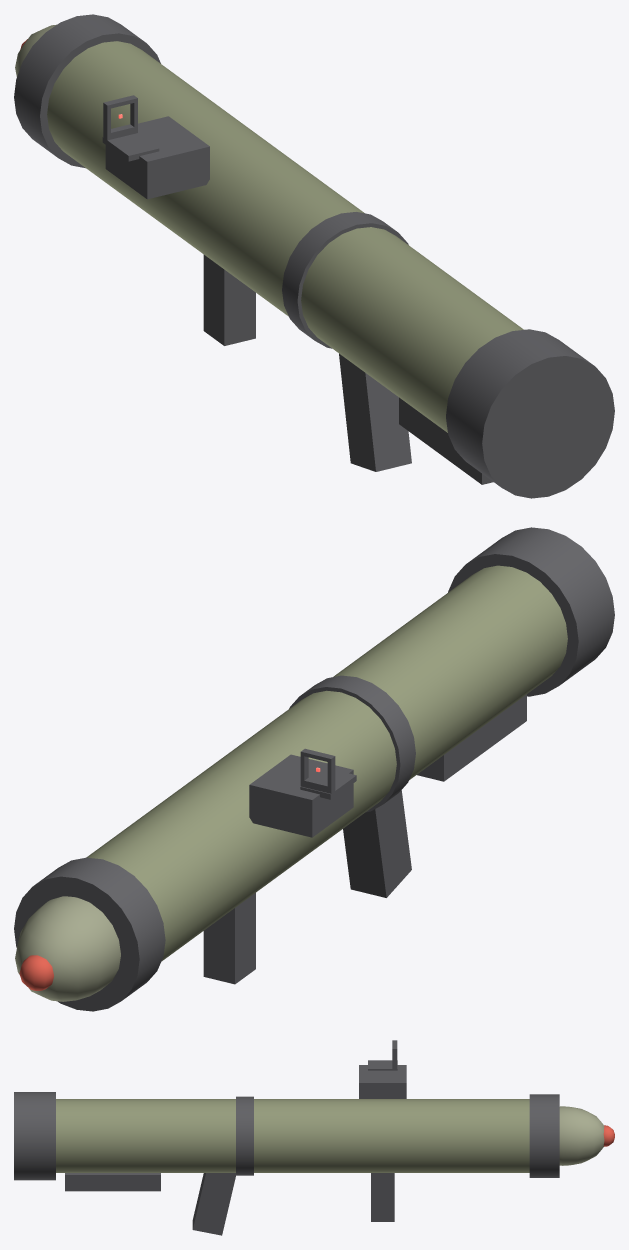
Rendered from launcher.glb.
The picture shows the model from 3 angles, top to bottom: view 1: azimuth 30°, elevation 25°; view 2: azimuth 150°, elevation 25°; view 3: azimuth 270°, elevation 25°; orthographic projection. The views are drawn at different scales.
Visible parts, largest first — view 1: Tube, Rear Ring, Front Ring, Grip, Sight Mount, Front Grip, Mid Band, Shoulder Pad, Sight Base; view 2: Tube, Rear Ring, Front Ring, Warhead, Sight Mount, Grip, Front Grip, Mid Band, Shoulder Pad, Warhead Tip, Sight Base; view 3: Tube, Rear Ring, Front Ring, Warhead, Grip, Shoulder Pad, Sight Mount, Mid Band, Front Grip, Sight Base.
Boxes of the visible parts, x1=… form: Tube: x1=47, y1=41, x2=523, y2=432; Rear Ring: x1=446, y1=329, x2=614, y2=498; Front Ring: x1=14, y1=14, x2=160, y2=168; Grip: x1=339, y1=353, x2=411, y2=471; Sight Mount: x1=105, y1=116, x2=209, y2=199; Front Grip: x1=203, y1=254, x2=255, y2=345; Mid Band: x1=282, y1=212, x2=408, y2=348; Shoulder Pad: x1=399, y1=397, x2=493, y2=484; Sight Base: x1=102, y1=133, x2=159, y2=161; Tube: x1=86, y1=565, x2=567, y2=961; Rear Ring: x1=448, y1=527, x2=614, y2=696; Front Ring: x1=14, y1=857, x2=165, y2=1011; Warhead: x1=15, y1=896, x2=120, y2=1001; Sight Mount: x1=249, y1=754, x2=353, y2=837; Grip: x1=343, y1=790, x2=411, y2=897; Front Grip: x1=203, y1=893, x2=255, y2=984; Mid Band: x1=289, y1=675, x2=415, y2=812; Shoulder Pad: x1=417, y1=694, x2=526, y2=781; Warhead Tip: x1=19, y1=955, x2=53, y2=990; Sight Base: x1=300, y1=768, x2=356, y2=799; Tube: x1=56, y1=1099, x2=529, y2=1172; Rear Ring: x1=14, y1=1092, x2=55, y2=1180; Front Ring: x1=529, y1=1094, x2=559, y2=1177; Warhead: x1=559, y1=1106, x2=604, y2=1165; Grip: x1=192, y1=1173, x2=235, y2=1235; Shoulder Pad: x1=65, y1=1173, x2=160, y2=1191; Sight Mount: x1=359, y1=1065, x2=406, y2=1098; Mid Band: x1=236, y1=1096, x2=253, y2=1175; Front Grip: x1=371, y1=1173, x2=394, y2=1221; Sight Base: x1=368, y1=1060, x2=397, y2=1070.
Bounding box in the file's own units: 0.201 × 0.2909 × 1.
